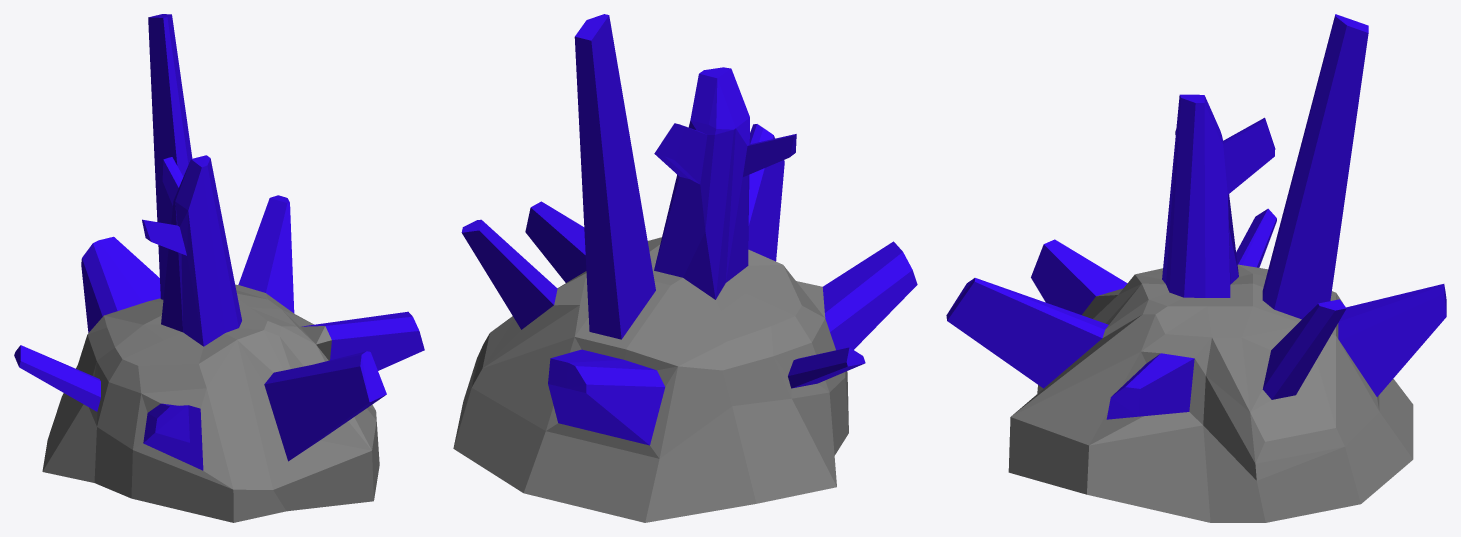
Rendered from metal rock.fbx.
3 renders of one model, left to right at view 1: azimuth 30°, elevation 25°; view 2: azimuth 150°, elevation 25°; view 3: azimuth 270°, elevation 25°, orthographic. The views are drawn at different scales.
Parts seen in each view (by area): view 1: metal rock; view 2: metal rock; view 3: metal rock.
Boxes of the visible parts, x1,y1,x2,y2 form: metal rock: [14, 14, 424, 522]; metal rock: [453, 14, 917, 522]; metal rock: [946, 14, 1446, 522].
Bounding box in the file's own units: 27.53 × 29.92 × 31.86.
